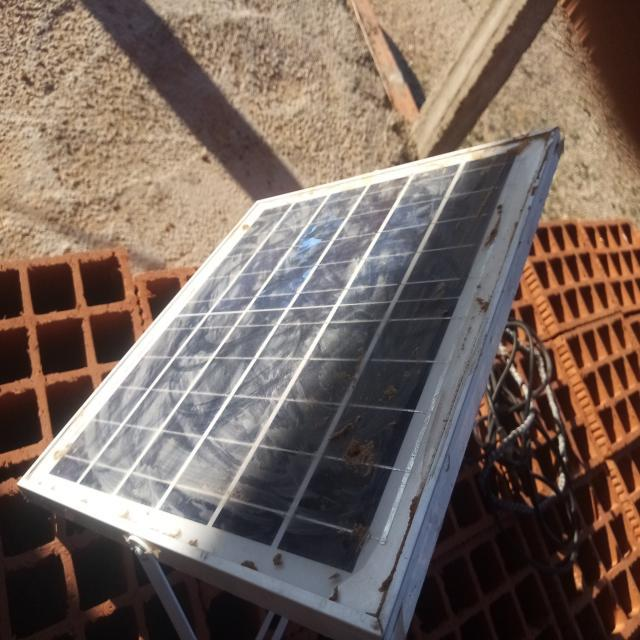faulty: (25, 133, 558, 624)
